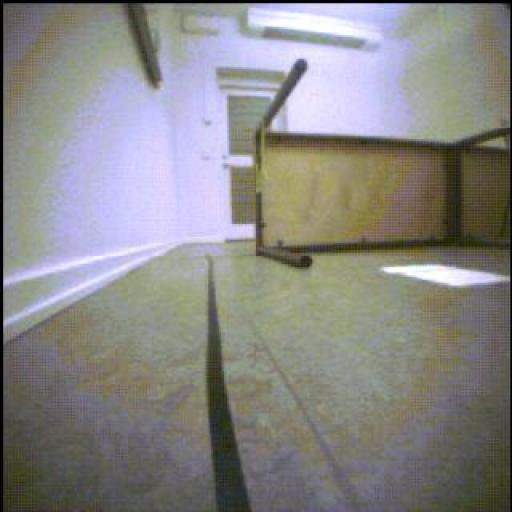Pad: (382, 265, 511, 287)
